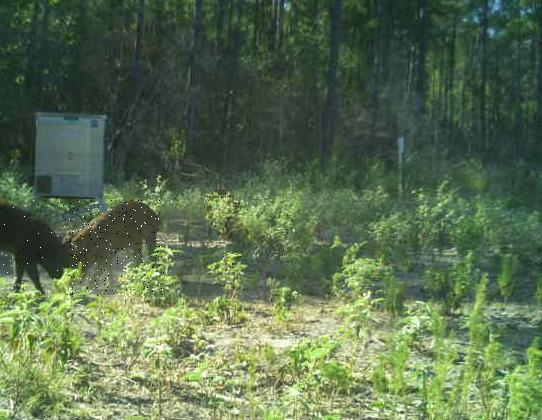Hog: (70, 200, 165, 297), (0, 195, 69, 300)
